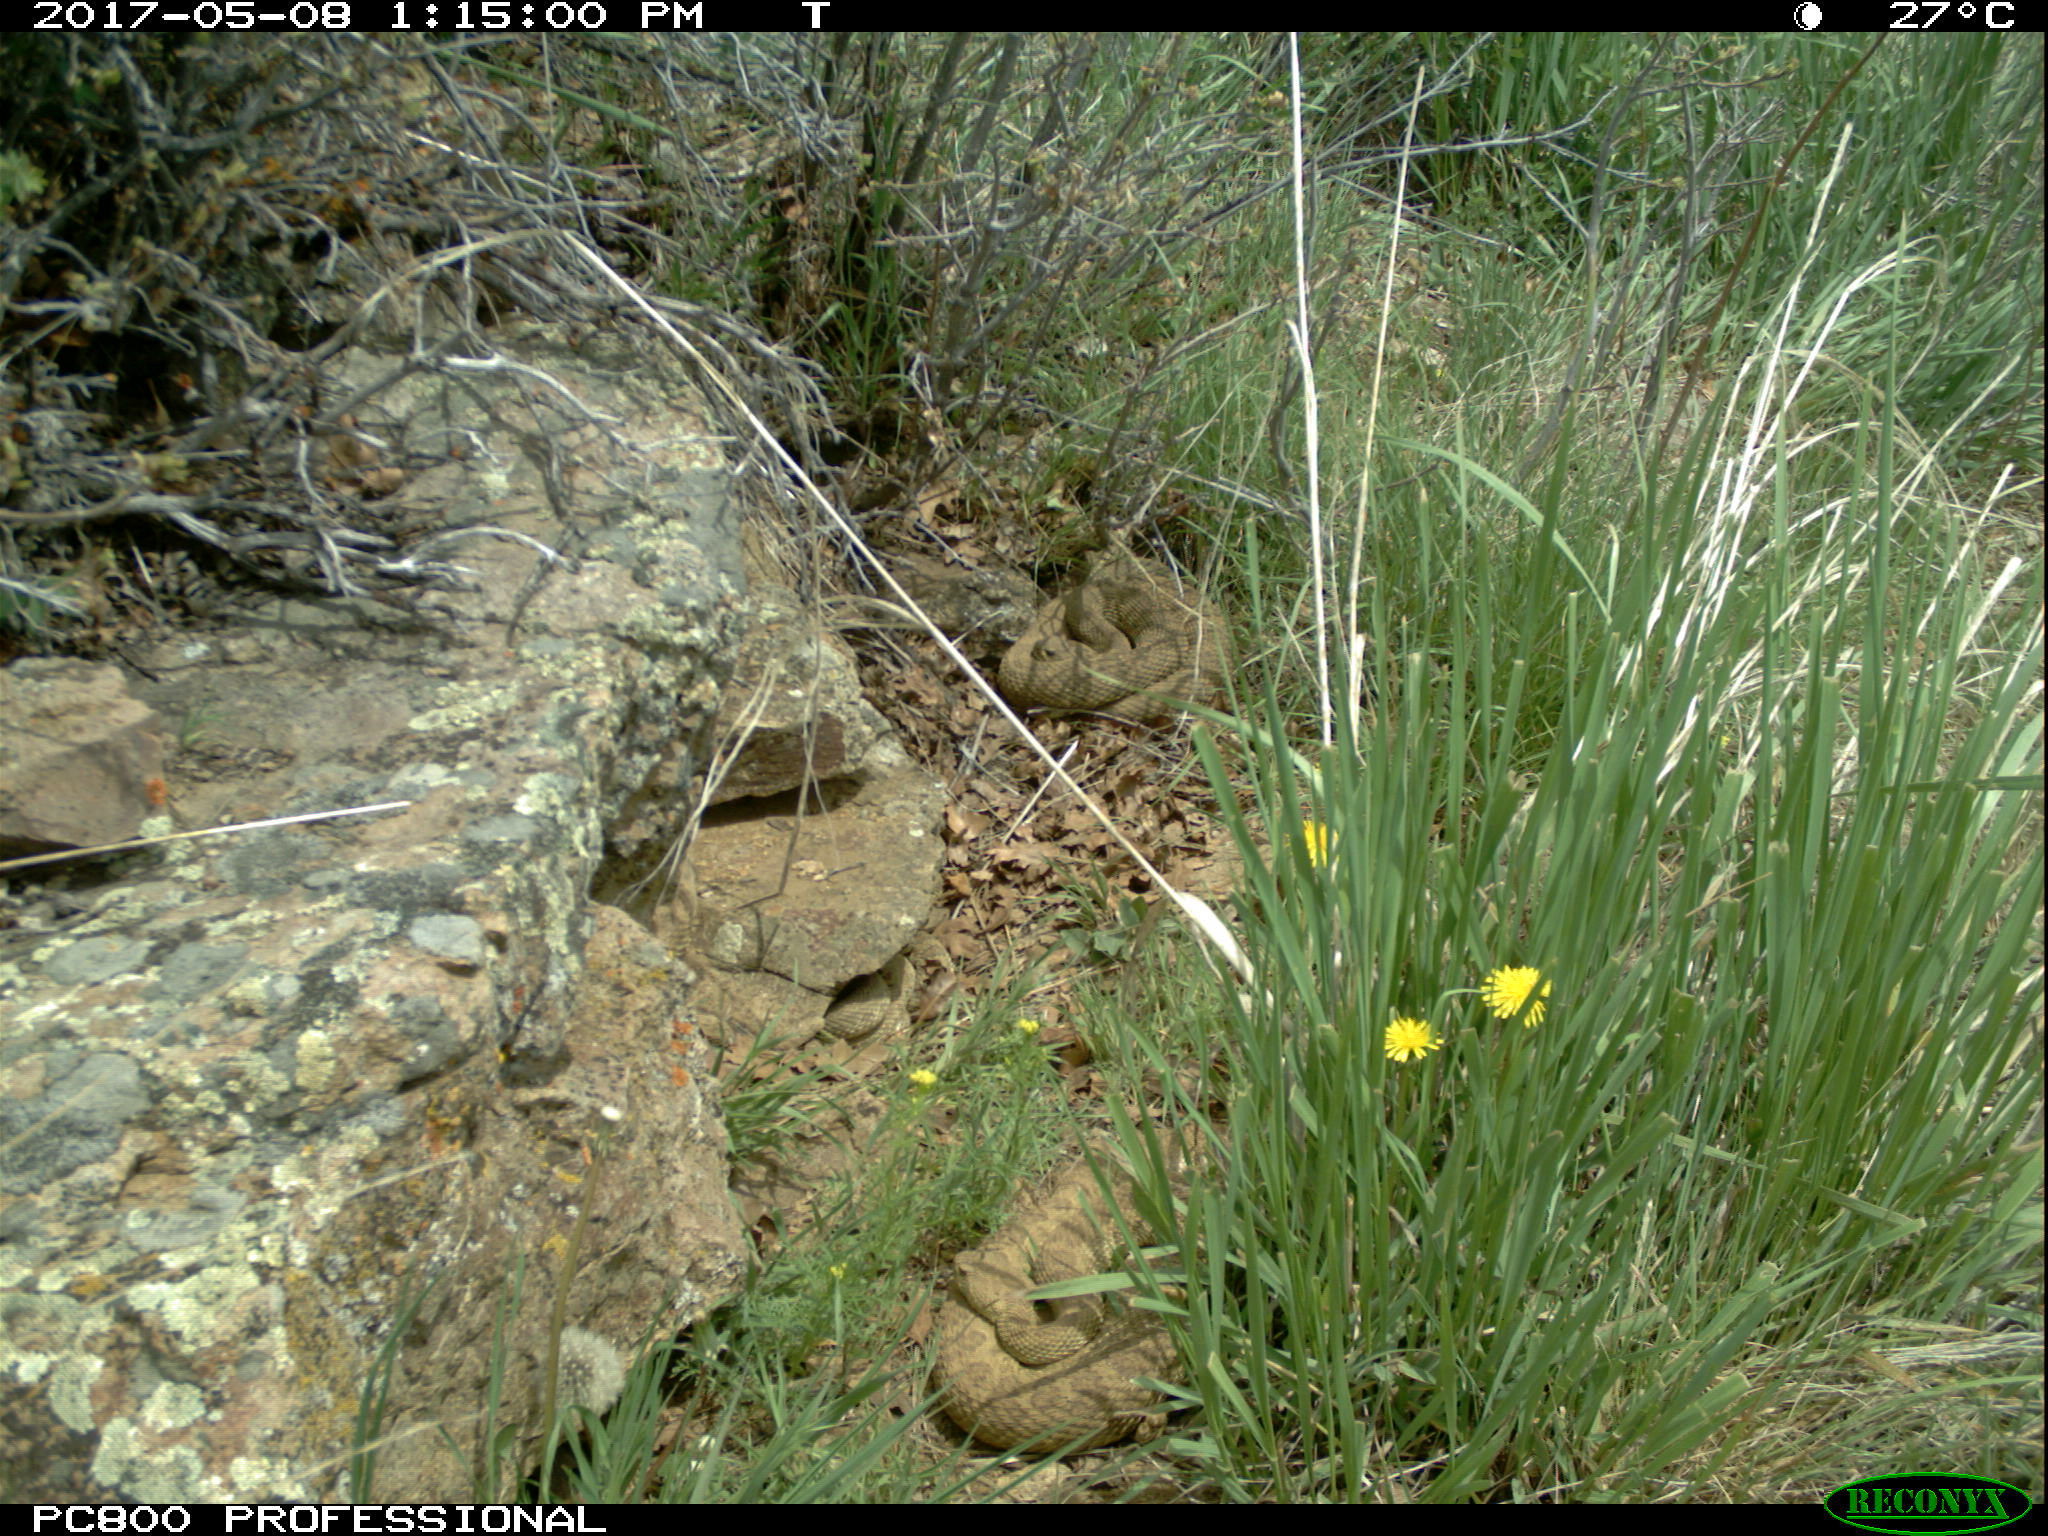snake: (927, 1113, 1247, 1459), (993, 558, 1247, 733), (821, 936, 935, 1049)
